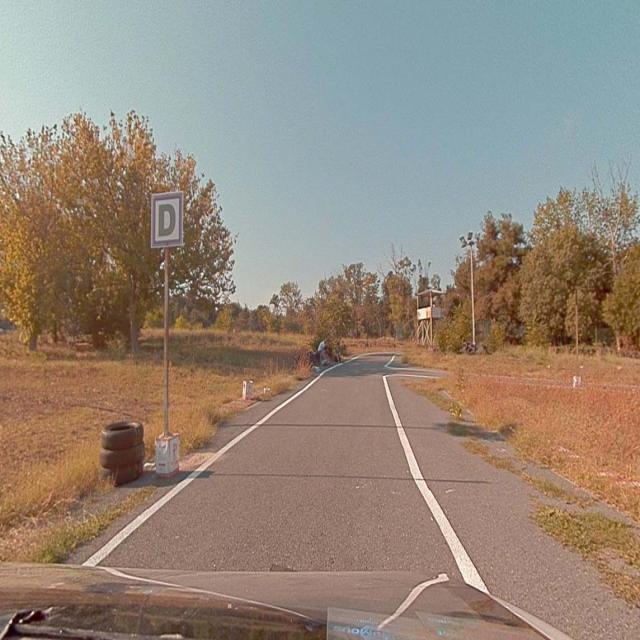durak: (152, 192, 182, 245)
